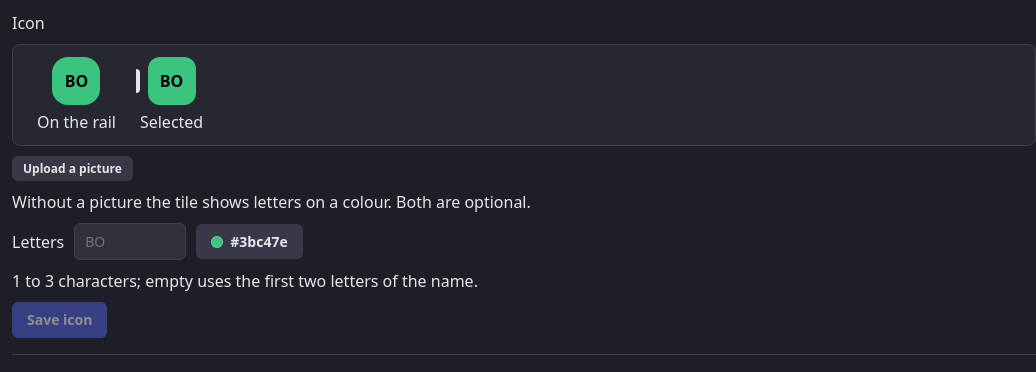
Test: the letters › are sent trimmed, and saving keeps the colour as it was
Step 1. Type "  bc " into the field labelled "Letters" → x=130, y=242, box [74,223,186,260]
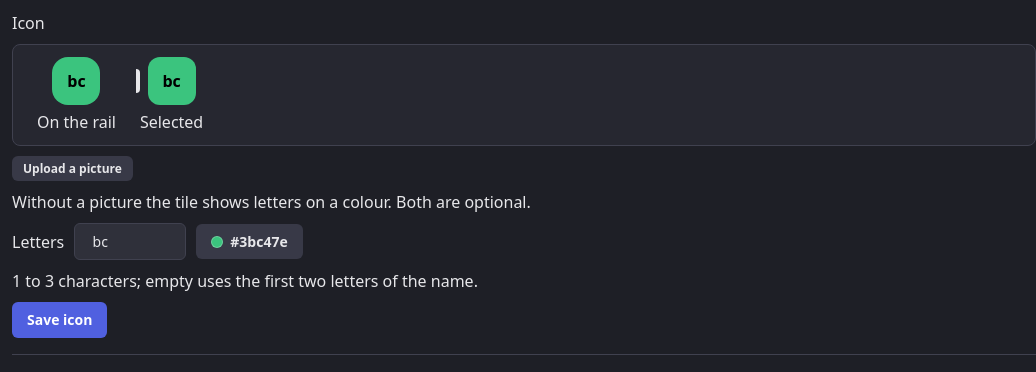
Step 2. Click the button "Save icon" → x=60, y=320, box [12,302,107,338]
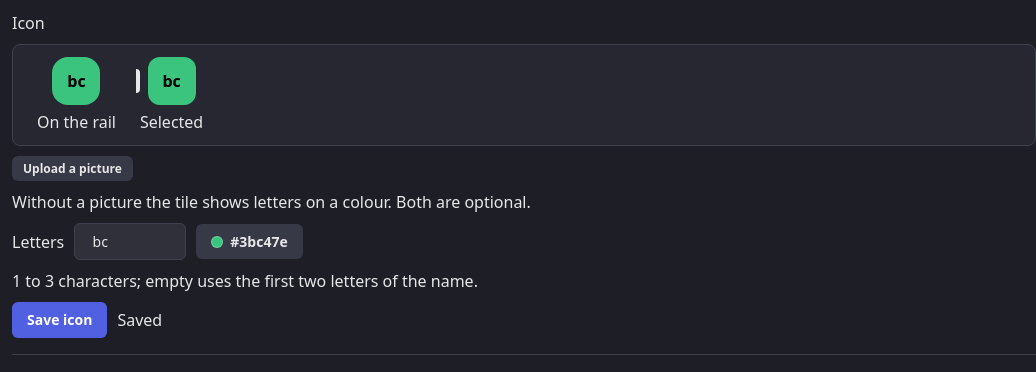
Result: the text "Saved" is shown at [117,309,162,331]
